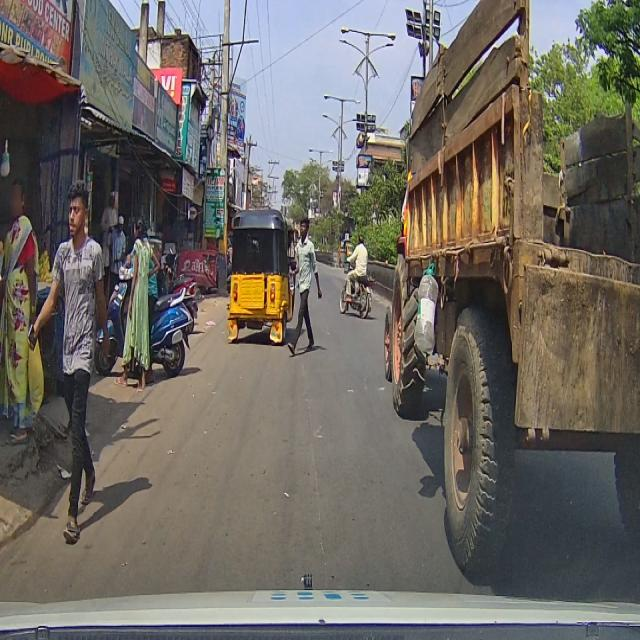auto ahead at: (225, 206, 294, 336)
person ahead at: (30, 177, 99, 549), (123, 219, 161, 386), (289, 214, 324, 363)
truck ahead at: (381, 0, 640, 564)
